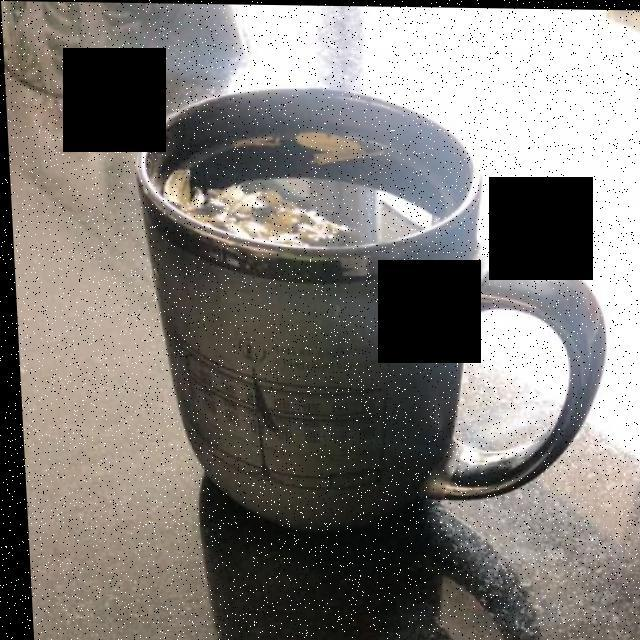tea: (190, 121, 440, 261)
